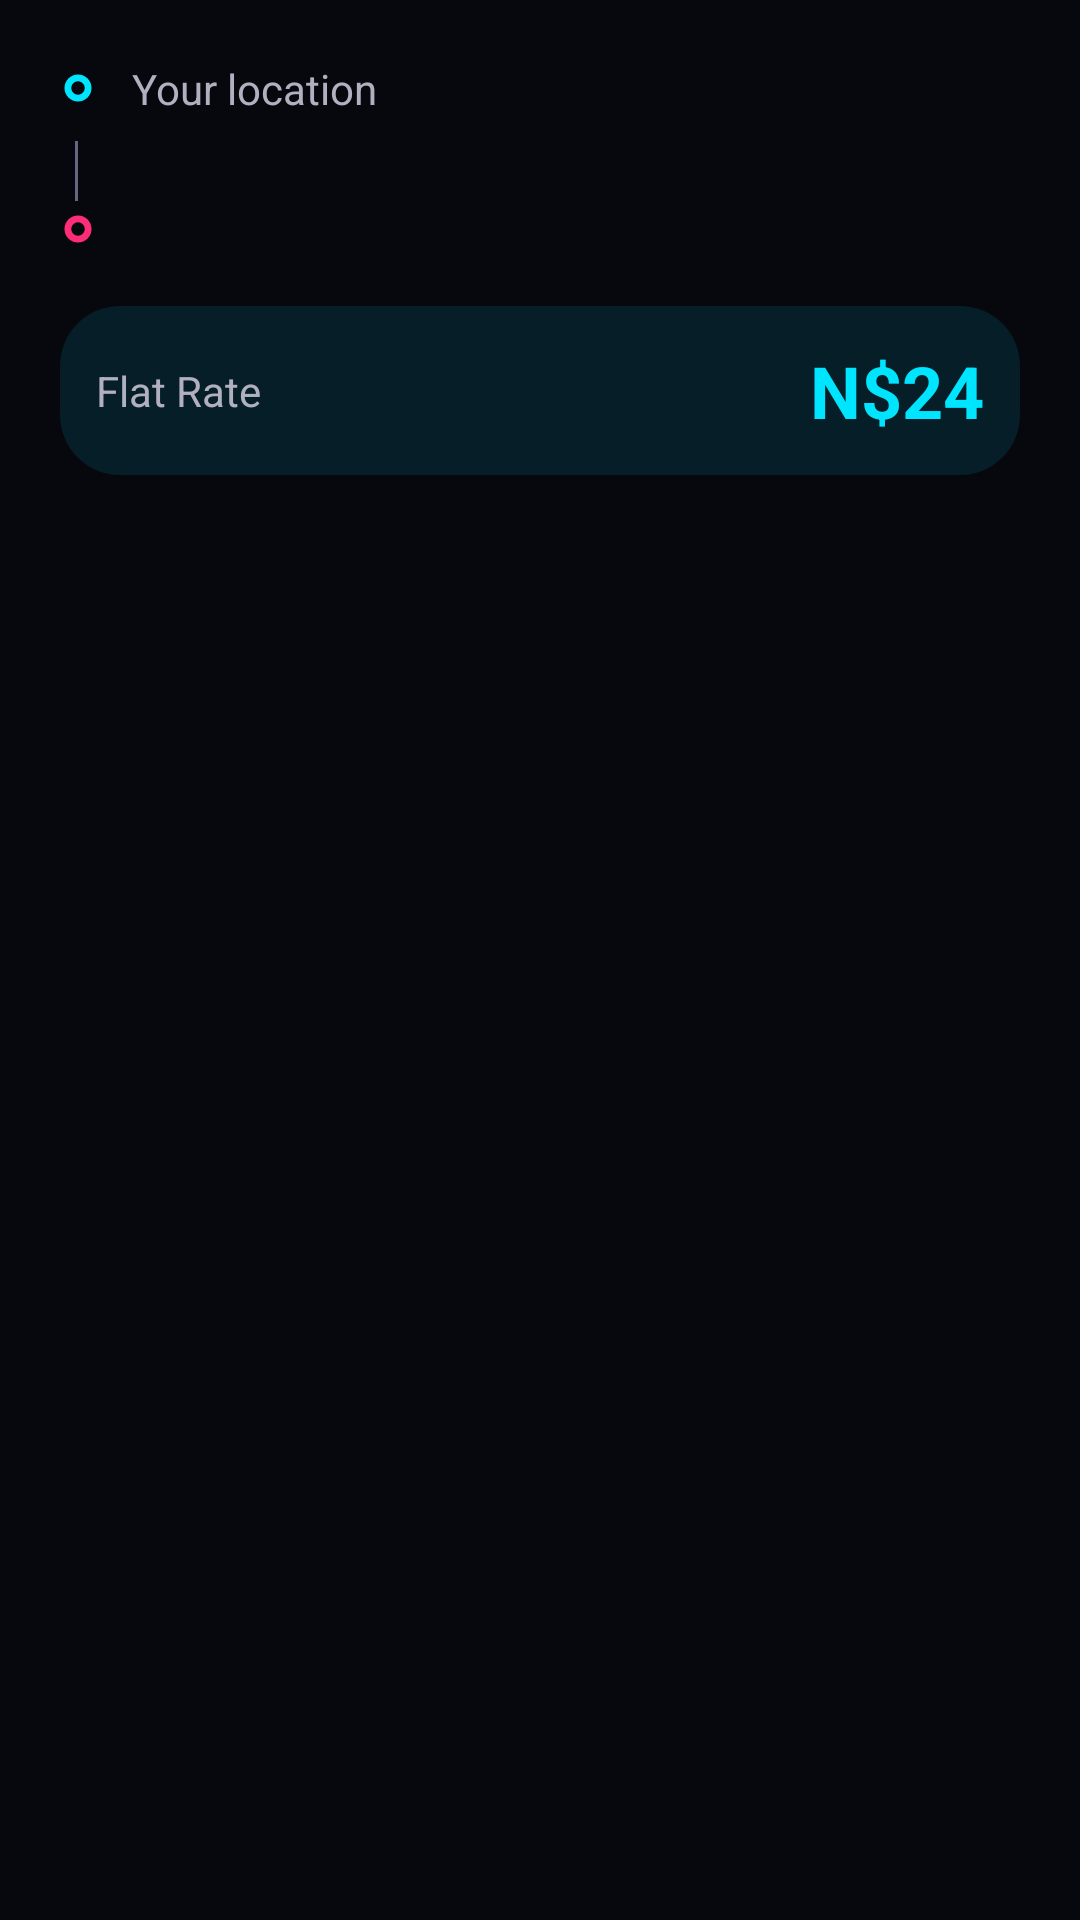

Point at icon controls on the screen. Image size 1080 x 1920, points as (x,y).
Destination: (78,229)
Pickup: (78,88)
